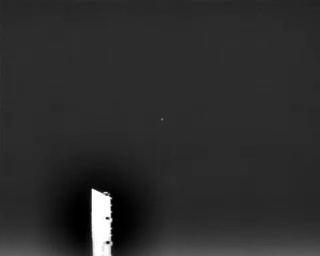BIRD: (159, 115, 166, 124)
